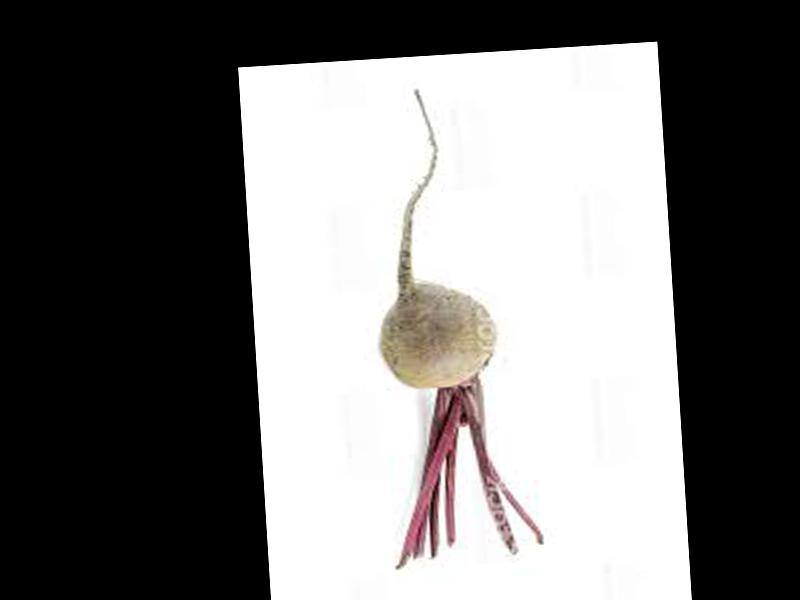Beet: (365, 80, 541, 567)
